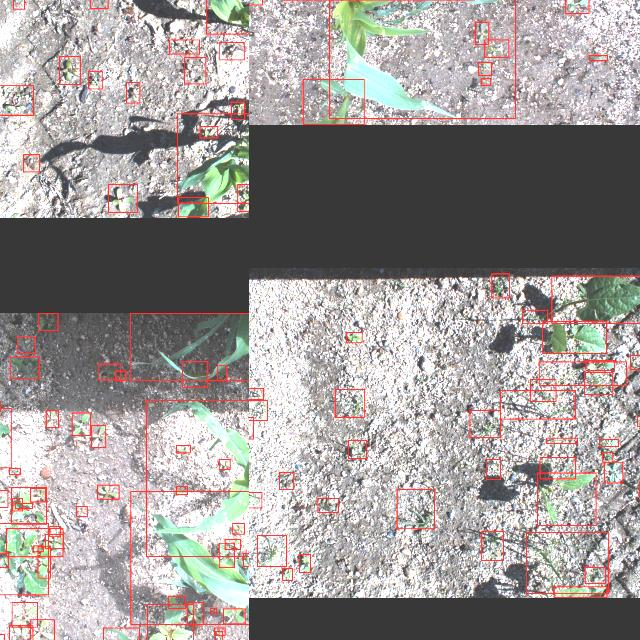crop: (329, 0, 515, 119), (145, 399, 249, 556), (130, 491, 249, 624), (130, 312, 249, 379), (176, 114, 249, 204), (551, 275, 640, 322), (536, 472, 596, 526), (302, 80, 363, 124), (542, 321, 606, 353), (554, 586, 606, 598), (178, 197, 208, 217), (103, 628, 139, 640)
weed: (526, 532, 608, 594), (0, 523, 47, 595), (500, 390, 574, 420), (538, 361, 626, 385), (147, 604, 193, 640), (5, 529, 62, 557), (396, 489, 434, 529), (10, 488, 46, 524), (0, 85, 33, 115), (256, 536, 286, 566), (468, 410, 499, 438), (334, 389, 364, 417), (108, 184, 136, 212), (540, 457, 574, 479), (481, 531, 503, 561), (12, 602, 36, 628), (182, 361, 206, 387), (584, 372, 612, 394), (59, 57, 80, 85), (10, 357, 38, 378), (183, 58, 205, 84), (529, 379, 555, 401), (29, 619, 53, 640), (36, 546, 50, 578), (218, 42, 244, 59), (484, 40, 508, 58), (71, 412, 89, 436), (491, 273, 509, 297), (169, 40, 199, 54), (218, 542, 234, 568), (187, 602, 203, 626), (37, 312, 57, 330), (604, 462, 622, 482), (98, 363, 120, 379), (584, 568, 606, 584), (249, 400, 266, 420), (8, 626, 32, 640), (522, 309, 546, 323), (237, 184, 249, 211), (17, 336, 35, 354), (348, 440, 366, 458), (565, 0, 588, 14), (125, 82, 139, 104), (474, 22, 488, 44), (222, 610, 244, 624), (91, 425, 105, 447), (98, 485, 119, 499), (23, 154, 39, 172), (278, 472, 294, 490), (486, 459, 500, 479), (586, 360, 614, 370), (317, 498, 337, 512), (230, 102, 244, 120), (88, 71, 102, 89), (44, 534, 62, 548), (199, 126, 217, 138), (45, 410, 57, 428), (298, 555, 310, 573), (168, 596, 185, 608), (30, 488, 44, 502), (249, 492, 261, 508), (546, 438, 576, 444), (478, 62, 490, 76), (224, 539, 240, 549), (216, 365, 226, 381), (346, 332, 362, 342), (249, 388, 262, 399), (12, 498, 22, 512), (598, 439, 618, 446), (630, 355, 640, 369), (90, 0, 107, 8), (232, 524, 244, 534), (218, 459, 230, 469), (282, 568, 292, 580), (0, 490, 7, 507), (175, 445, 189, 453), (0, 552, 7, 567), (49, 527, 59, 537), (76, 506, 86, 516), (115, 371, 125, 381), (602, 452, 612, 462), (12, 0, 23, 9), (176, 486, 187, 494), (214, 628, 224, 636), (243, 553, 249, 566), (589, 56, 607, 60), (214, 631, 222, 640), (14, 504, 32, 508), (8, 468, 20, 474), (480, 78, 490, 85), (33, 546, 43, 552), (209, 608, 215, 614), (637, 416, 640, 426)
